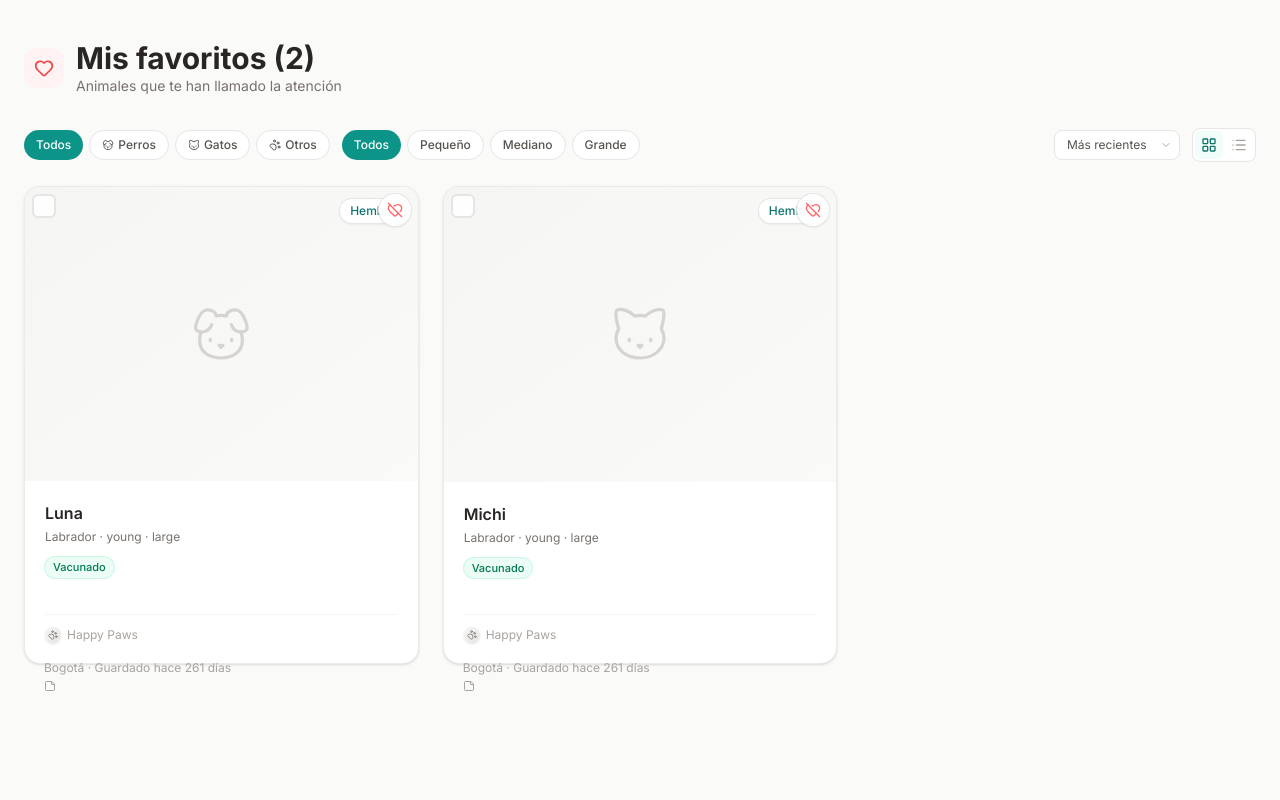
Scenario: FavoritosPage › filters by species when chip is clicked
Expected: the heading "Luna" is shown, [45,504,83,524]
Expected: the heading "Michi" is shown, [464,504,506,524]
Step 1. Click the button "Gatos" → (213, 145), box [175,130,250,160]
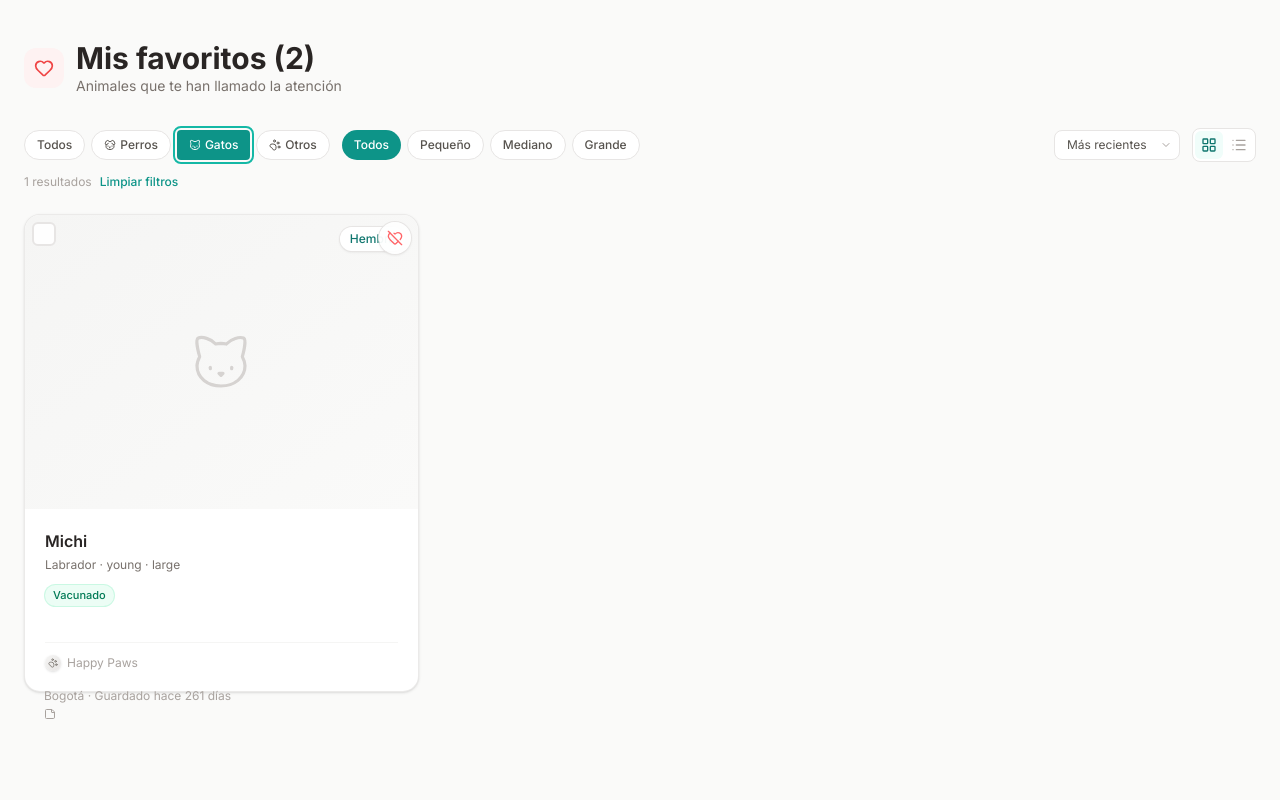
Expected: the heading "Michi" is shown, [45,532,87,552]
Result: the link "Luna" is gone
